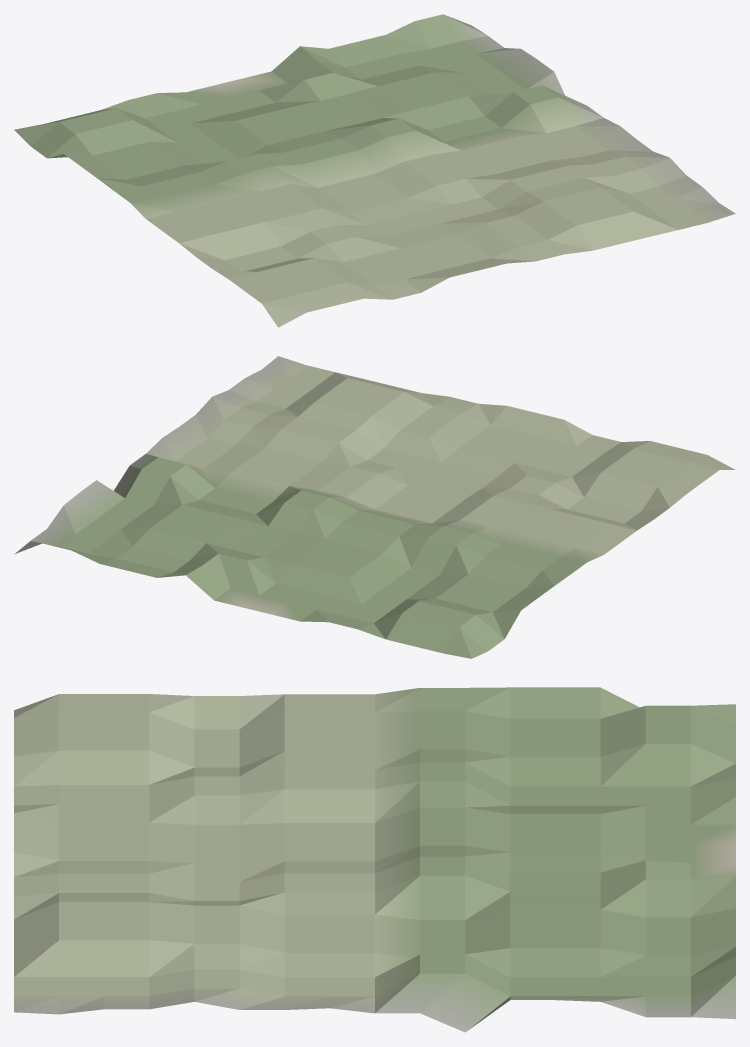
3 views of the same model, one above another, from view 1: azimuth 30°, elevation 25°; view 2: azimuth 150°, elevation 25°; view 3: azimuth 270°, elevation 25° (orthographic). The views are drawn at different scales.
Size of the model in its own units: 32 by 2.07 by 32.
